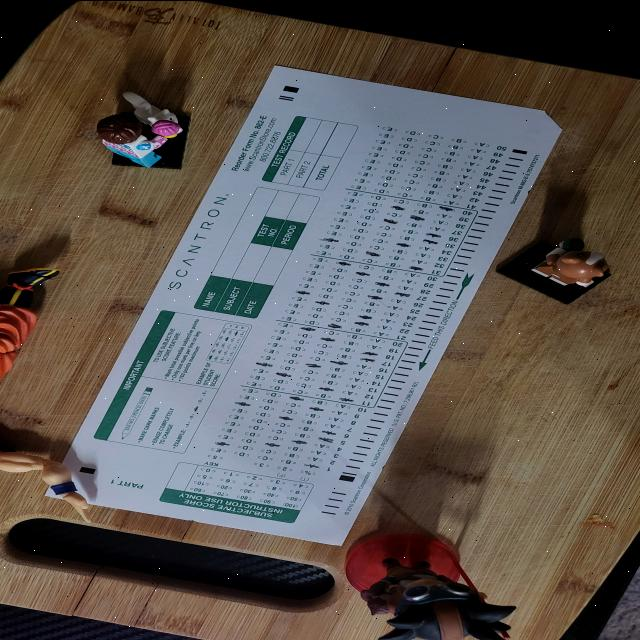scantron: (42, 64, 563, 546)
